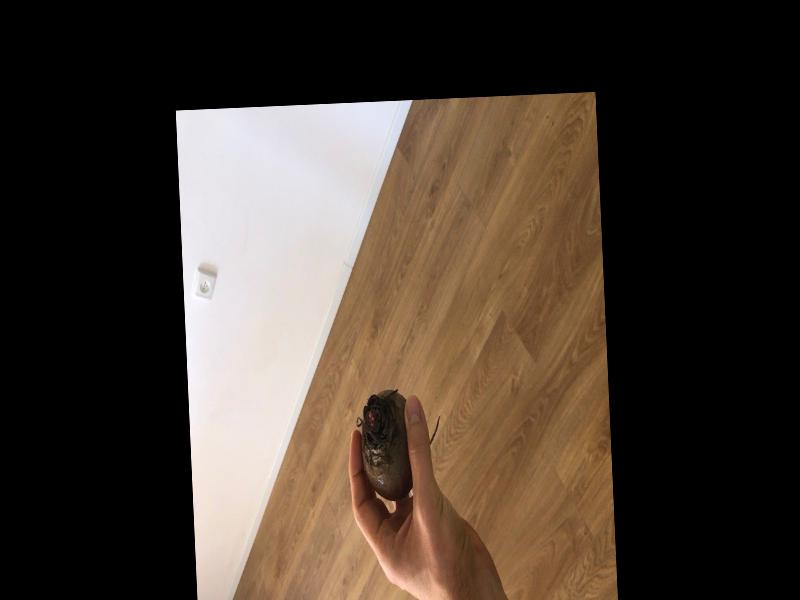Beet: (357, 386, 443, 501)
